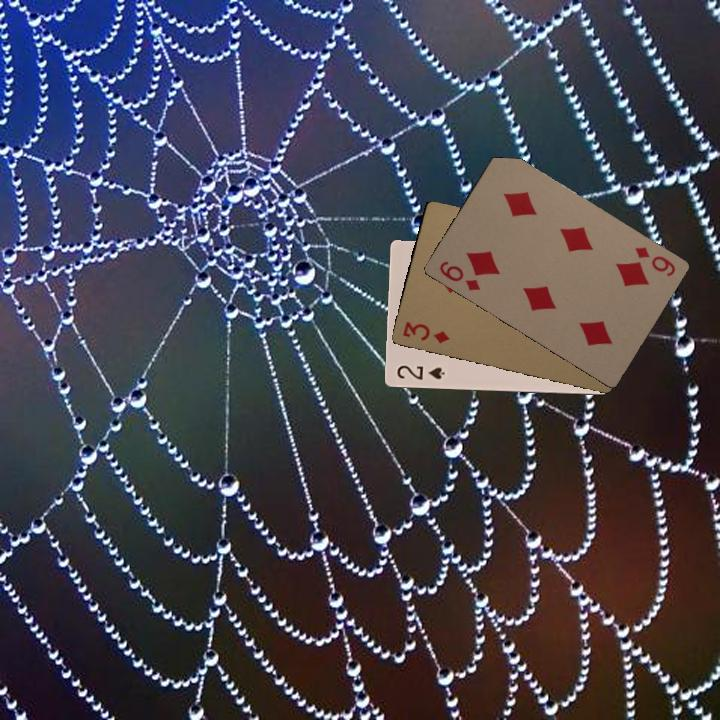2s: (393, 361, 446, 382)
3d: (398, 317, 452, 346)
6d: (630, 242, 678, 279), (435, 257, 483, 293)
